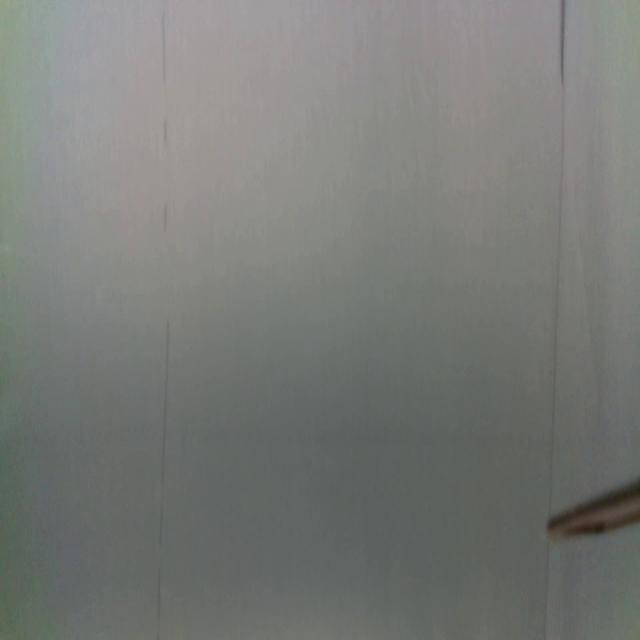crease: (548, 0, 566, 510), (156, 316, 172, 640), (542, 542, 552, 638), (161, 6, 168, 85), (161, 202, 170, 238), (163, 113, 170, 145)
